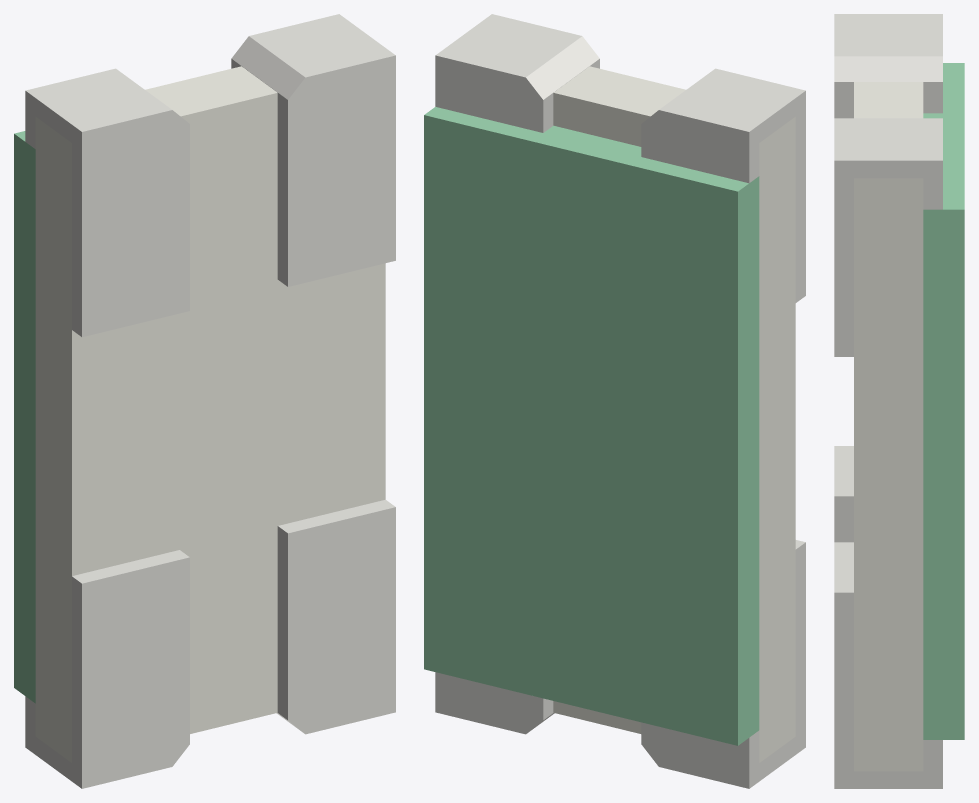
File: R_Shunt_Ohmite_LVK12.glb
3 renders of one model, left to right at view 1: azimuth 30°, elevation 25°; view 2: azimuth 150°, elevation 25°; view 3: azimuth 270°, elevation 25°, orthographic. The views are drawn at different scales.
Visible parts, largest first — view 1: Shape_IndexedFaceSet.009, Shape_IndexedFaceSet.020, Shape_IndexedFaceSet.026, Shape_IndexedFaceSet.032, Shape_IndexedFaceSet.036, Shape_IndexedFaceSet, Shape_IndexedFaceSet.025, Shape_IndexedFaceSet.027, Shape_IndexedFaceSet.039, Shape_IndexedFaceSet.023, Shape_IndexedFaceSet.034, Shape_IndexedFaceSet.035 (+5 smaller); view 2: Shape_IndexedFaceSet.015, Shape_IndexedFaceSet.020, Shape_IndexedFaceSet.025, Shape_IndexedFaceSet.029, Shape_IndexedFaceSet.028, Shape_IndexedFaceSet.027, Shape_IndexedFaceSet.039, Shape_IndexedFaceSet.014, Shape_IndexedFaceSet.024, Shape_IndexedFaceSet.006, Shape_IndexedFaceSet.023, Shape_IndexedFaceSet.034 (+4 smaller); view 3: Shape_IndexedFaceSet.007, Shape_IndexedFaceSet.008, Shape_IndexedFaceSet.013, Shape_IndexedFaceSet.003, Shape_IndexedFaceSet.027, Shape_IndexedFaceSet.039, Shape_IndexedFaceSet.014, Shape_IndexedFaceSet.037, Shape_IndexedFaceSet.023, Shape_IndexedFaceSet.022, Shape_IndexedFaceSet.005, Shape_IndexedFaceSet.019 (+1 smaller).
Part boxes in pixels (x1,y1,x2,y2): Shape_IndexedFaceSet.009: (72,93,385,733); Shape_IndexedFaceSet.020: (35,117,71,762); Shape_IndexedFaceSet.026: (288,55,395,286); Shape_IndexedFaceSet.032: (82,557,189,788); Shape_IndexedFaceSet.036: (82,110,189,337); Shape_IndexedFaceSet: (288,507,395,734); Shape_IndexedFaceSet.025: (14,134,35,703); Shape_IndexedFaceSet.027: (249,14,395,77); Shape_IndexedFaceSet.039: (25,68,171,131); Shape_IndexedFaceSet.023: (145,66,277,116); Shape_IndexedFaceSet.034: (25,576,81,788); Shape_IndexedFaceSet.035: (25,91,81,336); Shape_IndexedFaceSet.015: (424,115,737,745); Shape_IndexedFaceSet.020: (759,117,795,762); Shape_IndexedFaceSet.025: (738,176,759,745); Shape_IndexedFaceSet.029: (641,110,749,183); Shape_IndexedFaceSet.028: (435,55,543,132); Shape_IndexedFaceSet.027: (435,14,581,77); Shape_IndexedFaceSet.039: (659,68,805,131); Shape_IndexedFaceSet.014: (424,107,748,191); Shape_IndexedFaceSet.024: (641,722,749,788); Shape_IndexedFaceSet.006: (435,672,543,734); Shape_IndexedFaceSet.023: (554,66,685,116); Shape_IndexedFaceSet.034: (749,542,805,788); Shape_IndexedFaceSet.007: (854,178,923,771); Shape_IndexedFaceSet.008: (923,209,964,739); Shape_IndexedFaceSet.013: (834,160,942,356); Shape_IndexedFaceSet.003: (834,592,942,788); Shape_IndexedFaceSet.027: (834,118,942,160); Shape_IndexedFaceSet.039: (834,14,942,56); Shape_IndexedFaceSet.014: (923,63,964,209); Shape_IndexedFaceSet.037: (834,56,942,81); Shape_IndexedFaceSet.023: (854,82,923,118); Shape_IndexedFaceSet.022: (834,82,942,118); Shape_IndexedFaceSet.005: (834,542,853,592); Shape_IndexedFaceSet.019: (834,446,853,496).
Bounding box in the file's own units: 0.6299 × 1.26 × 0.2362.
